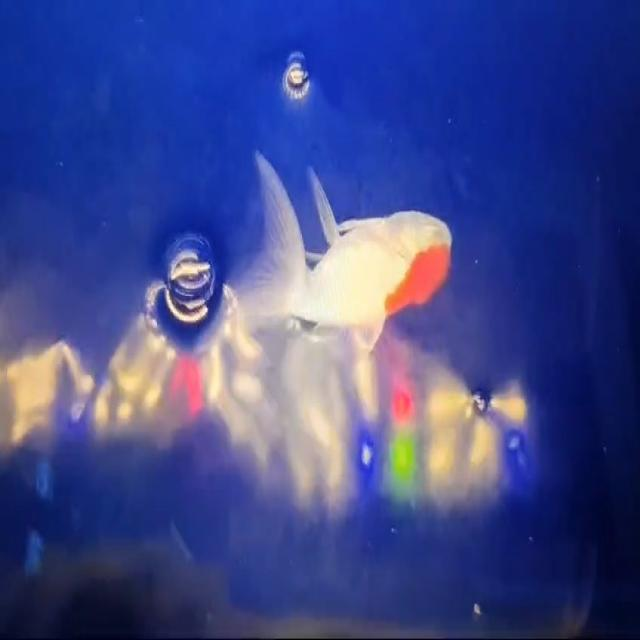fish: (220, 130, 454, 363)
